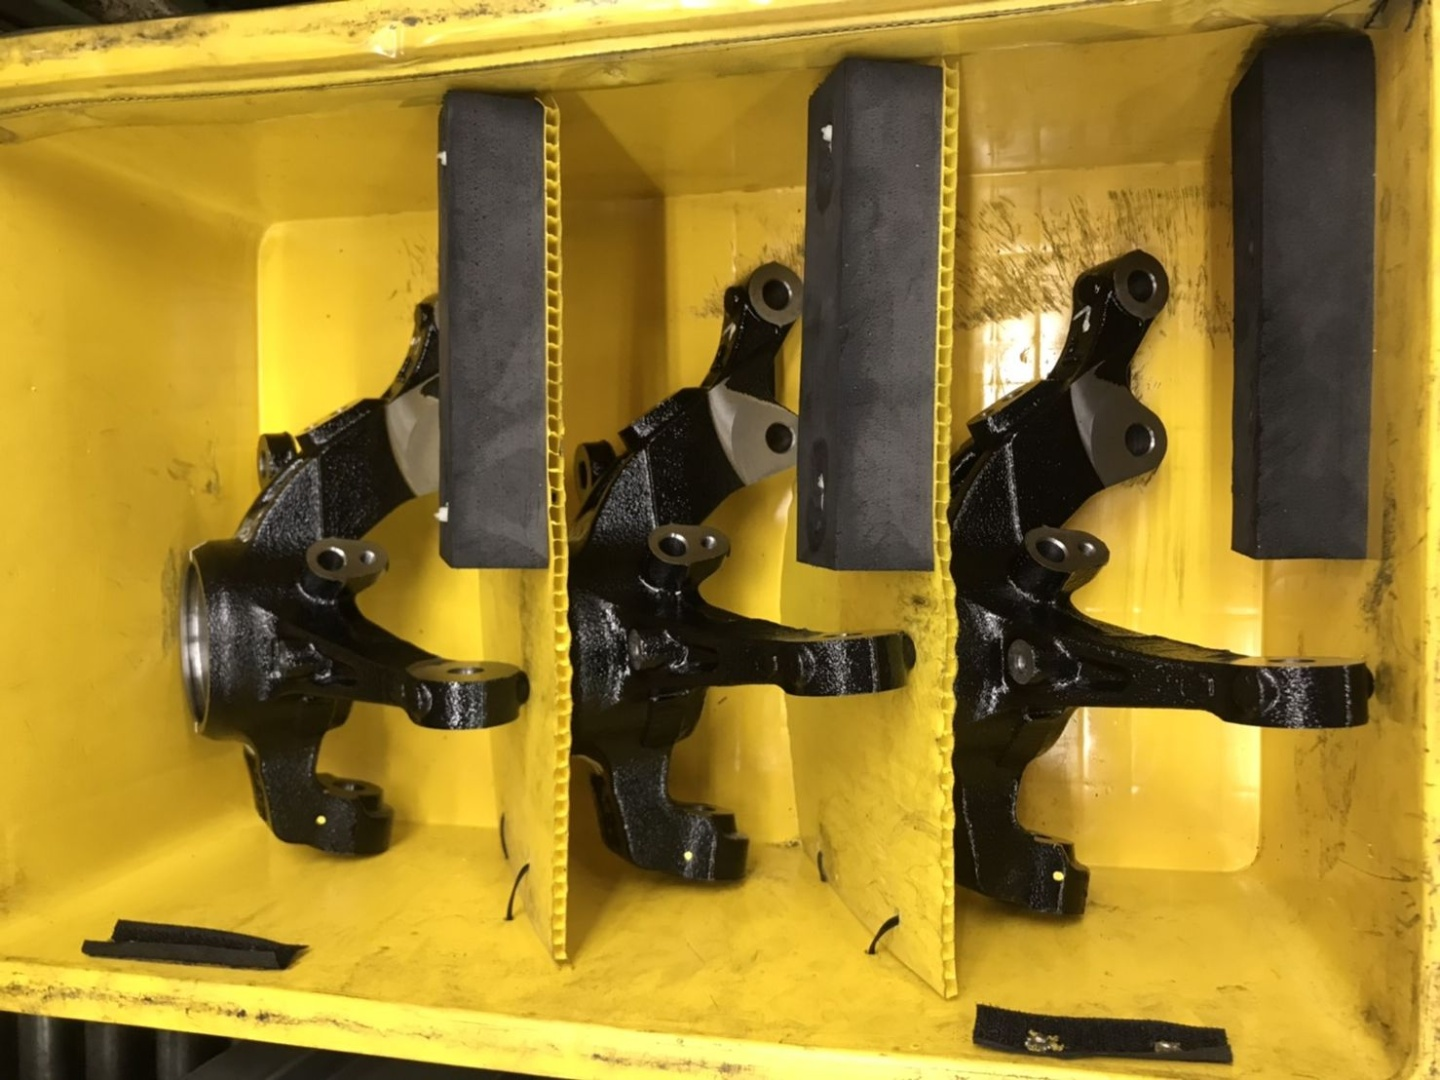abs-lh: (939, 241, 1387, 943), (564, 245, 924, 905), (167, 255, 536, 880)
